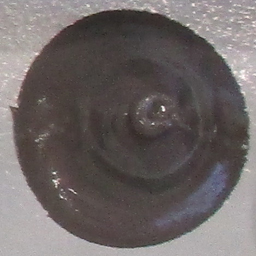perfect: (8, 6, 252, 250)
